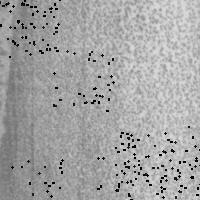pitted_surface: (9, 1, 199, 199), (53, 50, 112, 110), (115, 141, 174, 200), (97, 132, 154, 189), (2, 0, 59, 56), (138, 154, 195, 200), (9, 159, 67, 200), (0, 0, 42, 53), (156, 150, 200, 200), (164, 120, 200, 173)
